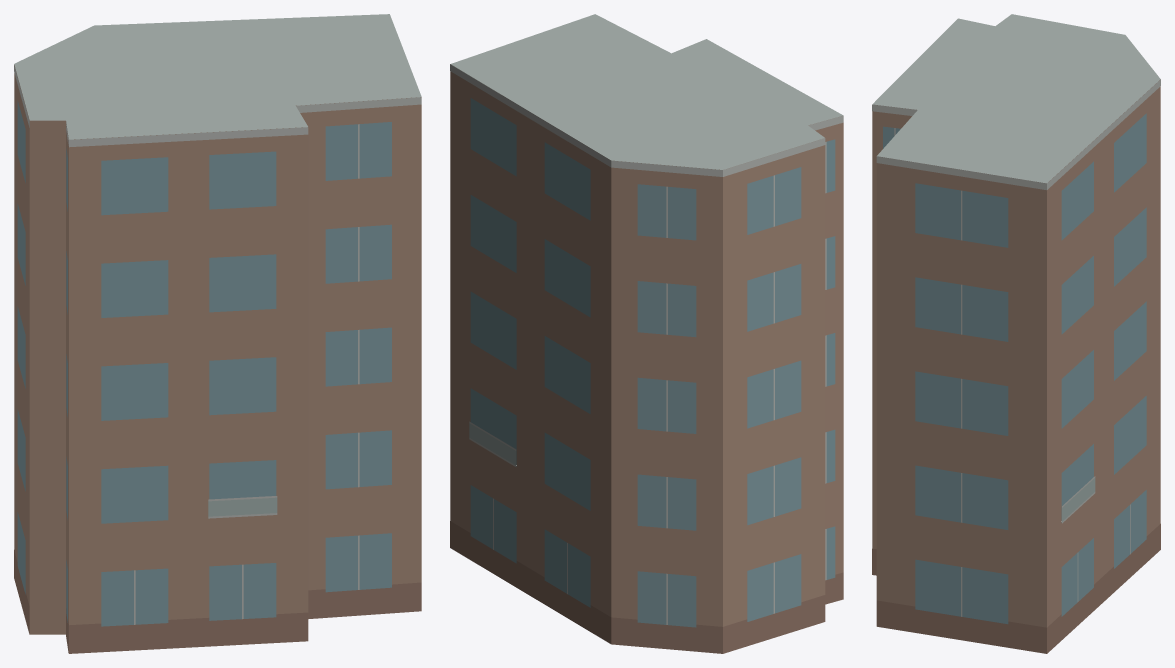
File: survey-upis-32733929.glb
The picture shows the model from 3 angles, left to right: view 1: azimuth 30°, elevation 25°; view 2: azimuth 150°, elevation 25°; view 3: azimuth 270°, elevation 25°; orthographic projection. The views are drawn at different scales.
Visible parts, largest first — view 1: survey-upis-32733929.tmp; view 2: survey-upis-32733929.tmp; view 3: survey-upis-32733929.tmp.
Part boxes in pixels (bbox=[...]): survey-upis-32733929.tmp: bbox=[14, 14, 421, 653]; survey-upis-32733929.tmp: bbox=[450, 14, 843, 653]; survey-upis-32733929.tmp: bbox=[872, 14, 1160, 653].
Size of the model in its own units: 12.93 by 16.74 by 9.32.
